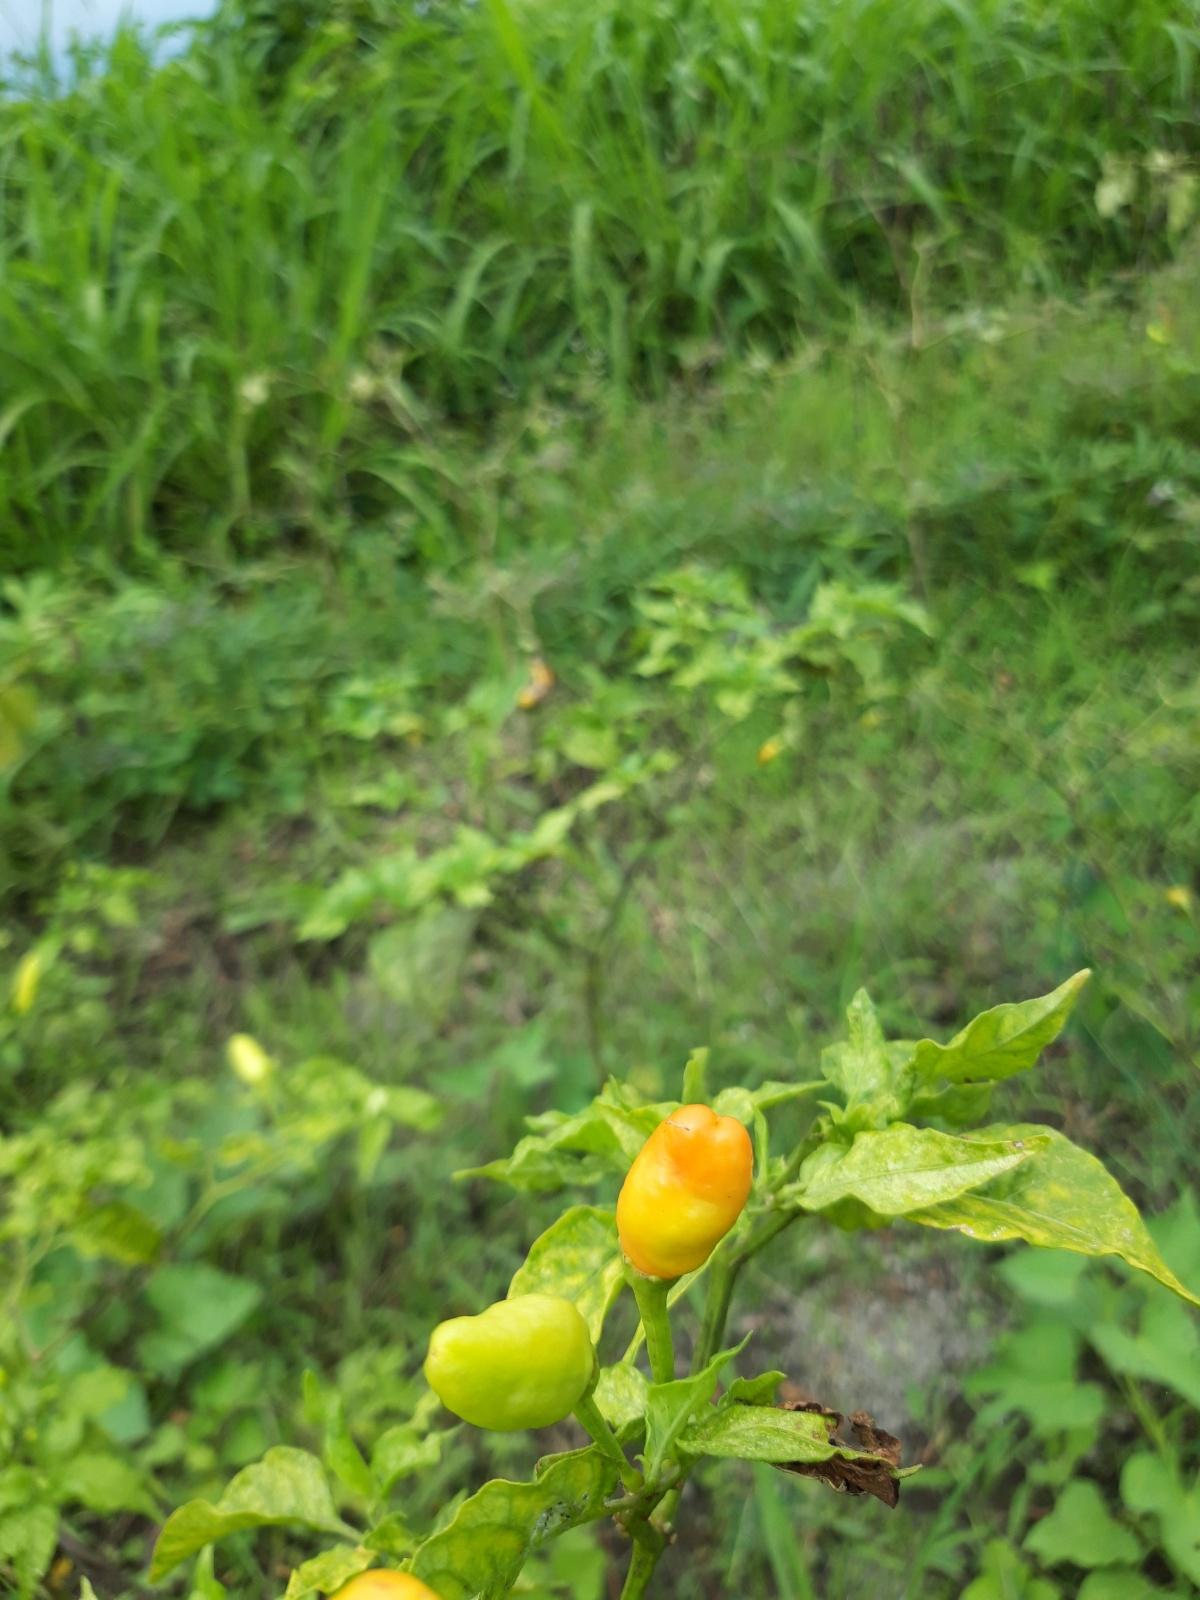cabai_normal: (610, 1105, 758, 1283), (422, 1294, 600, 1431)
